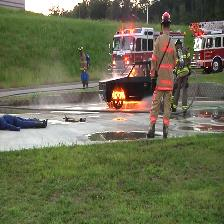fire: (110, 86, 124, 112)
